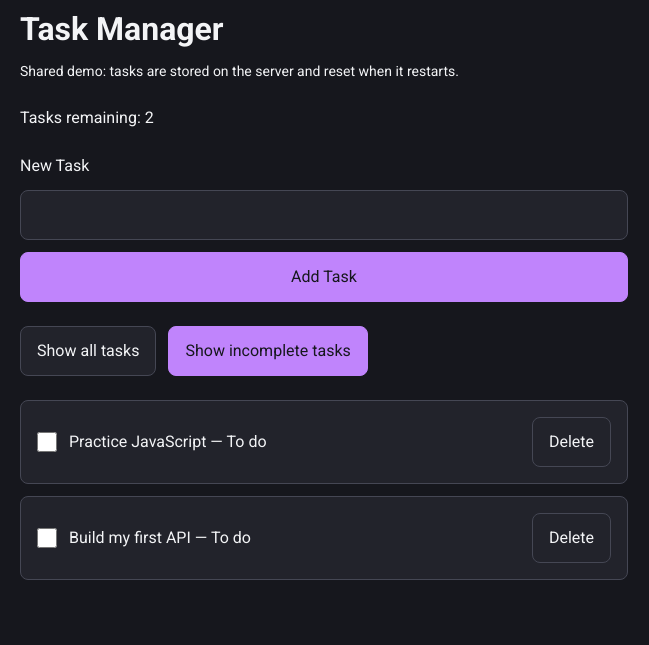
preserves input and existing tasks when adding fails: HTTP
In the field: (324, 215) [20, 190, 628, 240], type "Keep my input"
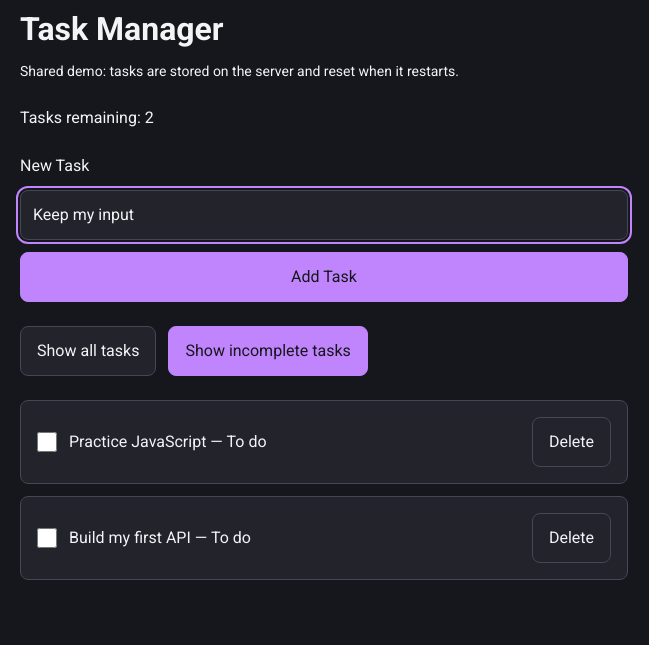
Click the button "Add Task": (324, 277) [20, 252, 628, 302]
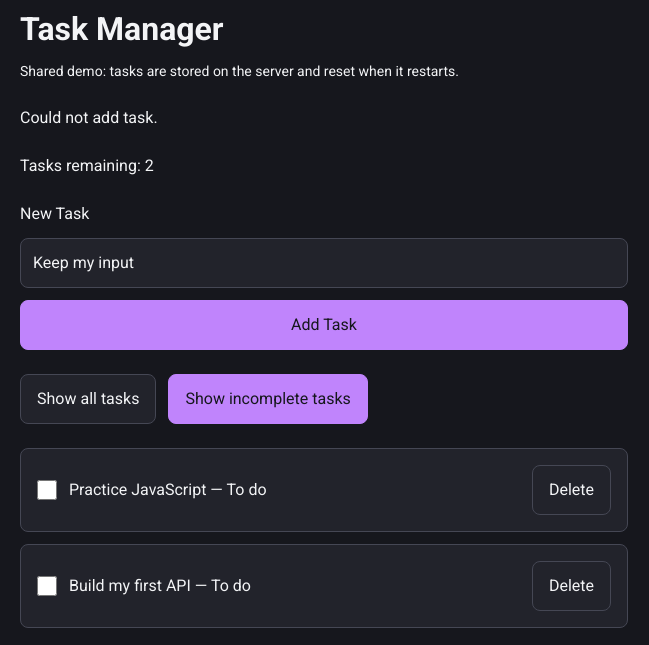
Expected: the number of list items is 2, [20, 448, 628, 532]; [20, 544, 628, 628]
Expected: the message reads "Could not add task.", [20, 108, 158, 127]
